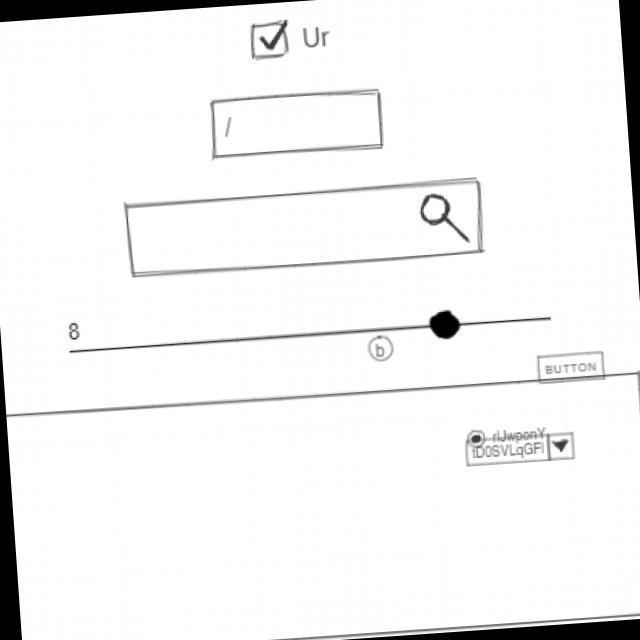button: (534, 348, 610, 389)
checkbox: (246, 14, 336, 64)
container: (6, 366, 640, 640)
icon-button: (366, 336, 397, 366)
input: (206, 83, 389, 164)
radio: (467, 422, 549, 448)
search: (121, 174, 490, 284)
select: (463, 429, 579, 470)
slider: (84, 302, 555, 365)
